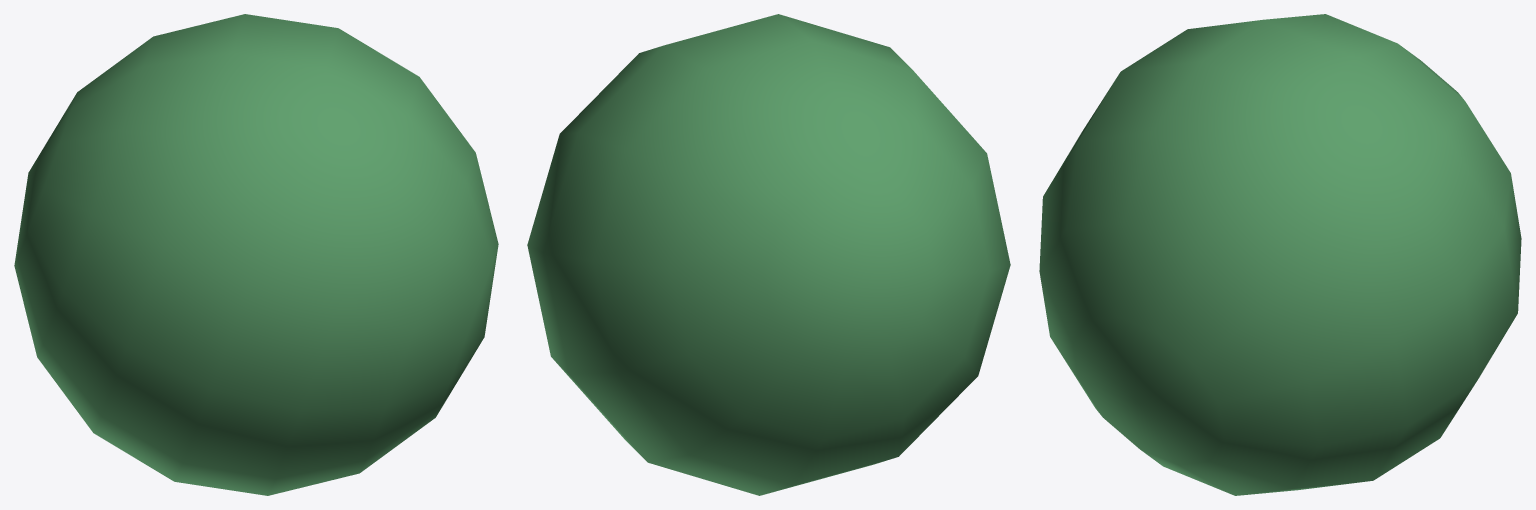
3 renders of one model, left to right at view 1: azimuth 30°, elevation 25°; view 2: azimuth 150°, elevation 25°; view 3: azimuth 270°, elevation 25°, orthographic.
Parts seen in each view (by area): view 1: 胆囊淋巴结; view 2: 胆囊淋巴结; view 3: 胆囊淋巴结.
Boxes of the visible parts, box(x1,y1,x2,y2) form: 胆囊淋巴结: box(14, 14, 498, 495); 胆囊淋巴结: box(527, 14, 1010, 495); 胆囊淋巴结: box(1039, 14, 1521, 495).
Bounding box in the file's own units: 0.00378 × 0.00377 × 0.00377.
